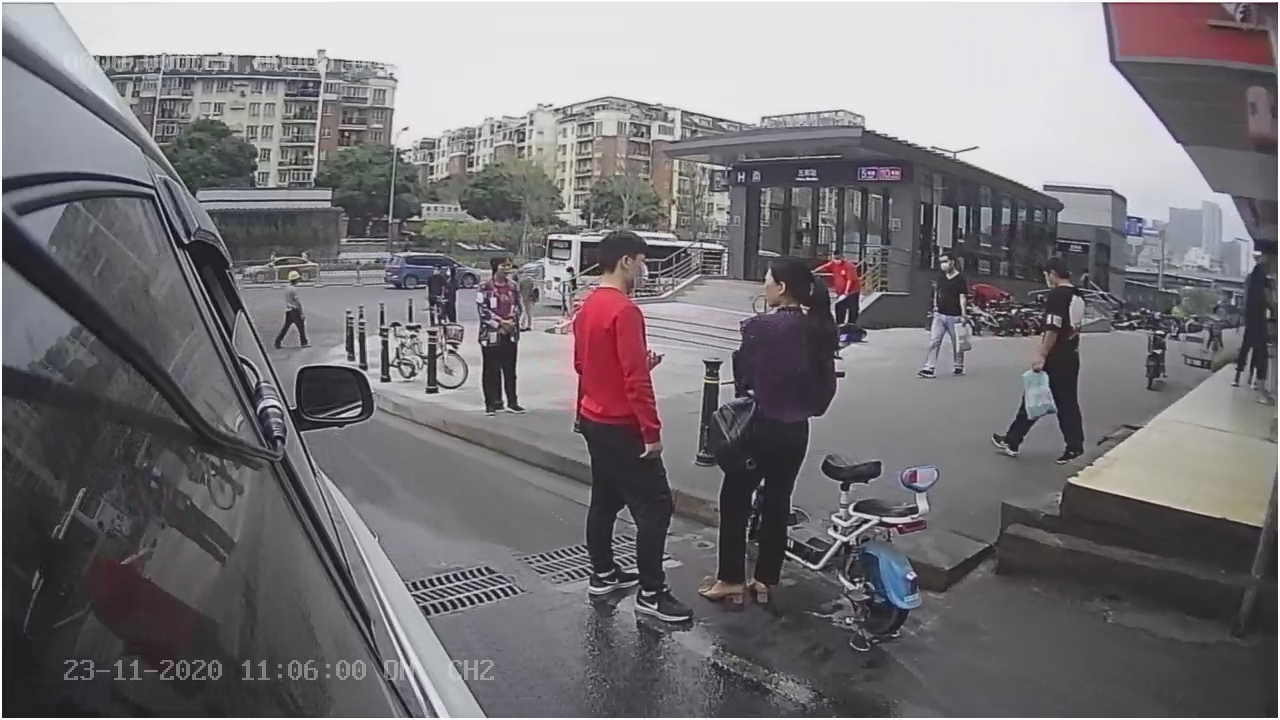person: (571, 226, 702, 634)
